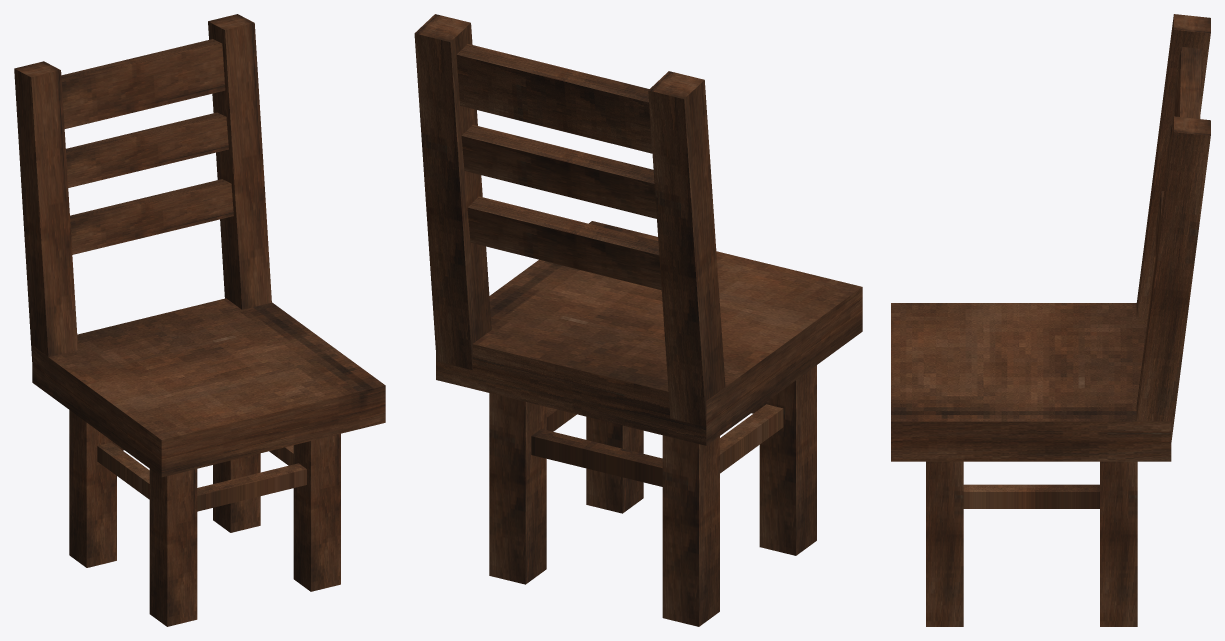
File: chair.glb
The picture shows the model from 3 angles, left to right: view 1: azimuth 30°, elevation 25°; view 2: azimuth 150°, elevation 25°; view 3: azimuth 270°, elevation 25°; orthographic projection. The views are drawn at different scales.
Visible parts, largest first — view 1: env_chair-col; view 2: env_chair-col; view 3: env_chair-col.
Boxes of the visible parts, x1=… form: env_chair-col: x1=14, y1=14, x2=385, y2=626; env_chair-col: x1=414, y1=14, x2=862, y2=626; env_chair-col: x1=891, y1=14, x2=1210, y2=626.
Size of the model in its own units: 0.8905 by 1.79 by 1.02.
1 material, 1 textured.
